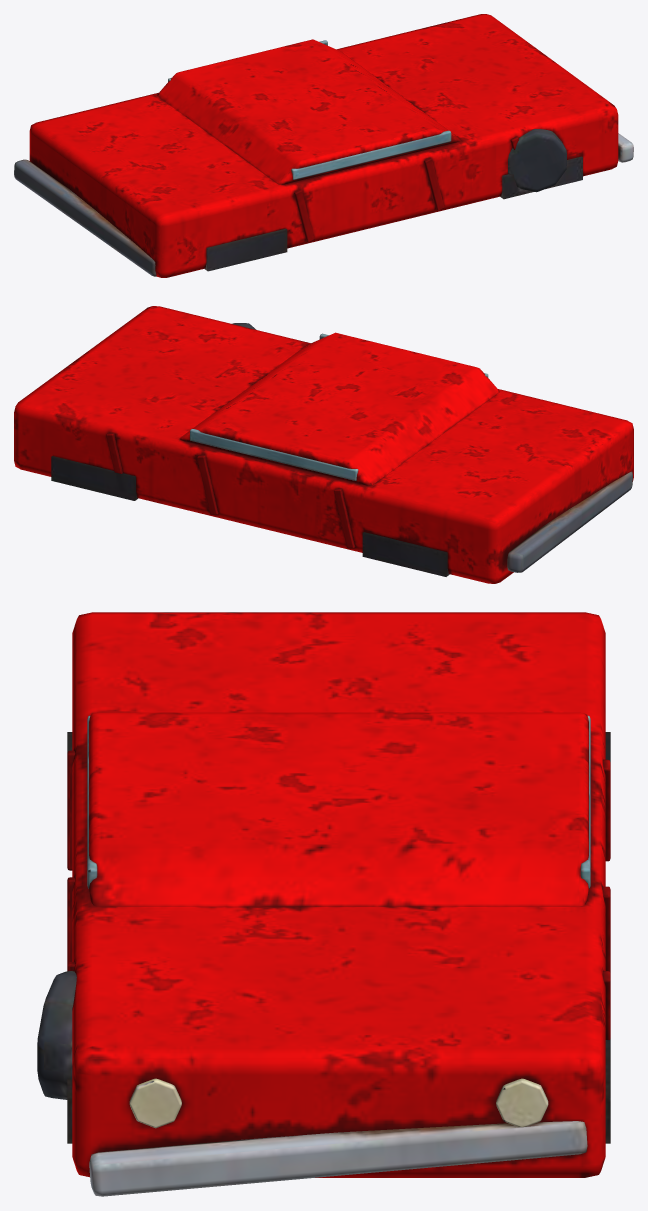
Rendered from car_stack.glb.
3 renders of one model, top to bottom at view 1: azimuth 30°, elevation 25°; view 2: azimuth 150°, elevation 25°; view 3: azimuth 270°, elevation 25°, orthographic. The views are drawn at different scales.
Parts seen in each view (by area): view 1: body; view 2: body; view 3: body.
Part boxes in pixels (x1=…): body: x1=14, y1=14, x2=633, y2=277; body: x1=14, y1=306, x2=633, y2=583; body: x1=37, y1=612, x2=610, y2=1196.
Size of the model in its own units: 3.45 by 0.54 by 1.72.
1 material, 1 textured.
